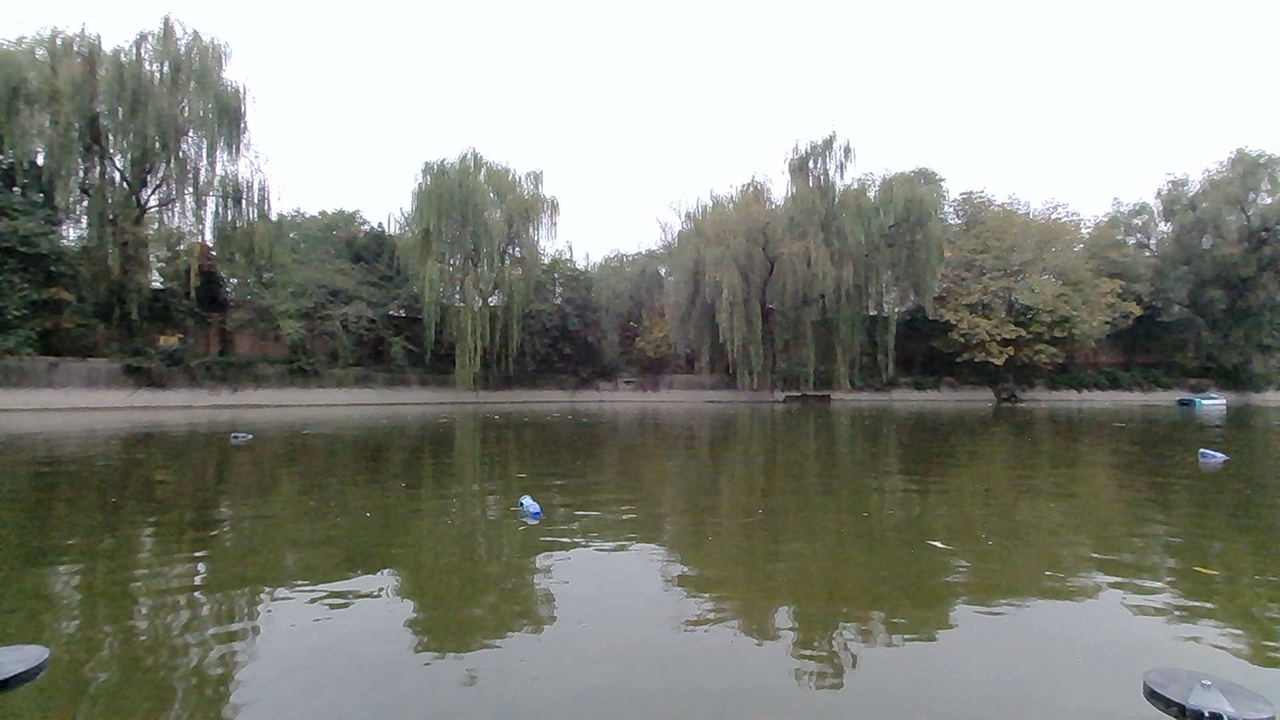bottle: (507, 492, 557, 529), (1193, 442, 1238, 476), (227, 414, 259, 448)
